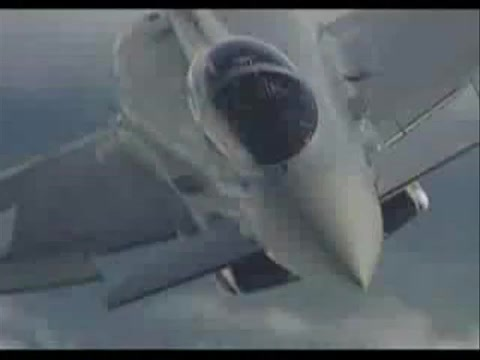aeroplane: (1, 11, 480, 312)
